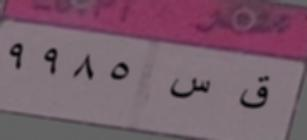5: (110, 58, 133, 86)
8: (70, 50, 97, 82)
9: (7, 39, 27, 76), (41, 45, 59, 80)
qaaf: (237, 68, 273, 113)
seen: (167, 73, 212, 107)
